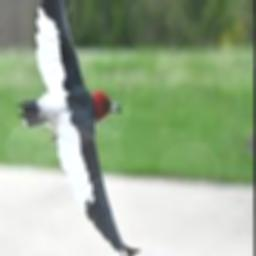Woodpecker: (17, 0, 143, 256)
